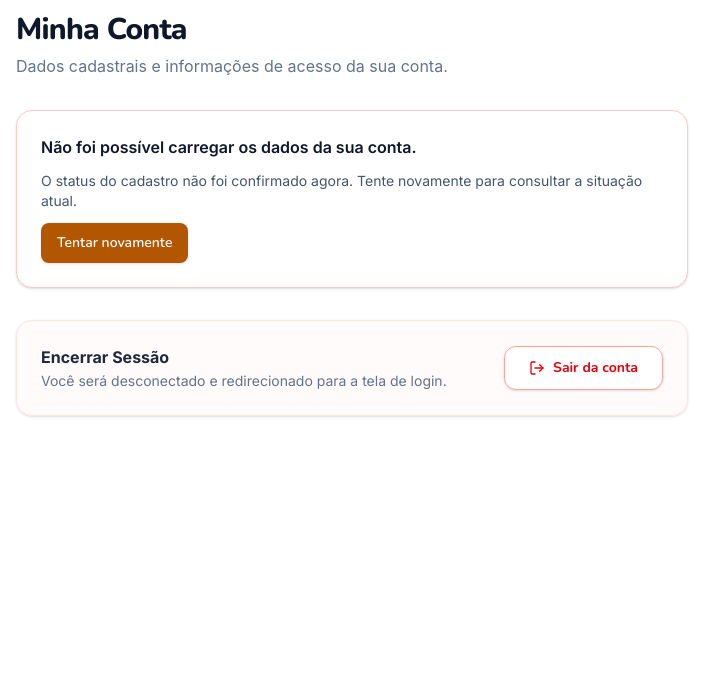
Scenario: Conta: falha da API não mostra status antigo da sessão nem 'Pendente'
expect the text "Não foi possível carregar os dados da sua conta." is shown: met, box 41,137 -> 416,157
Click the button "Tentar novamente": (115, 243) 41,223 -> 188,263
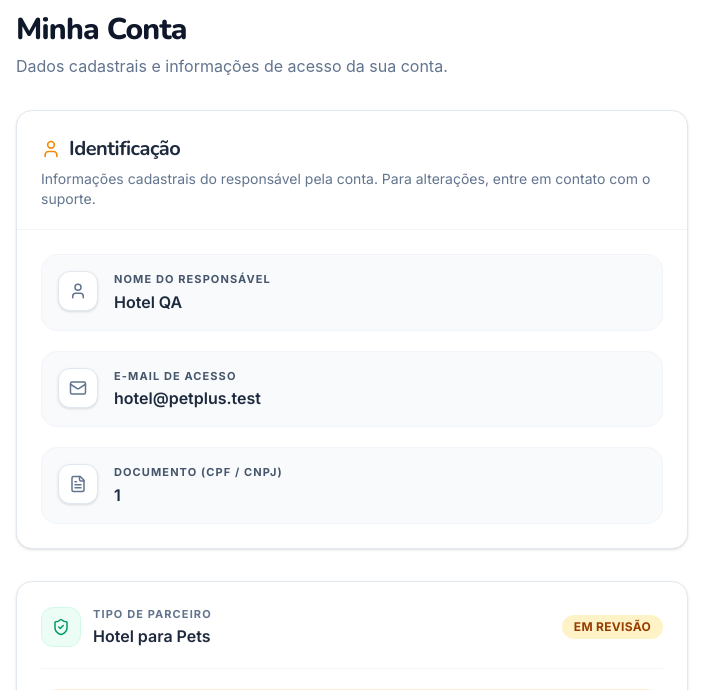
expect the text "Em revisão" is shown: met, box 562,615 -> 663,639
